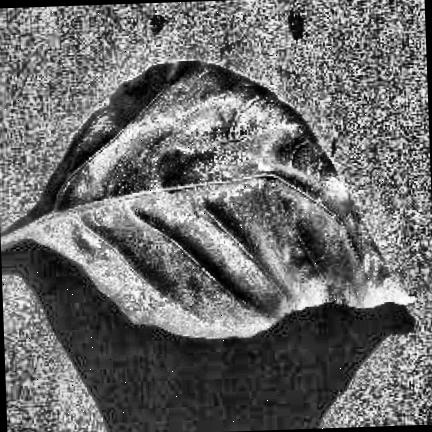leaf: (0, 61, 415, 337)
